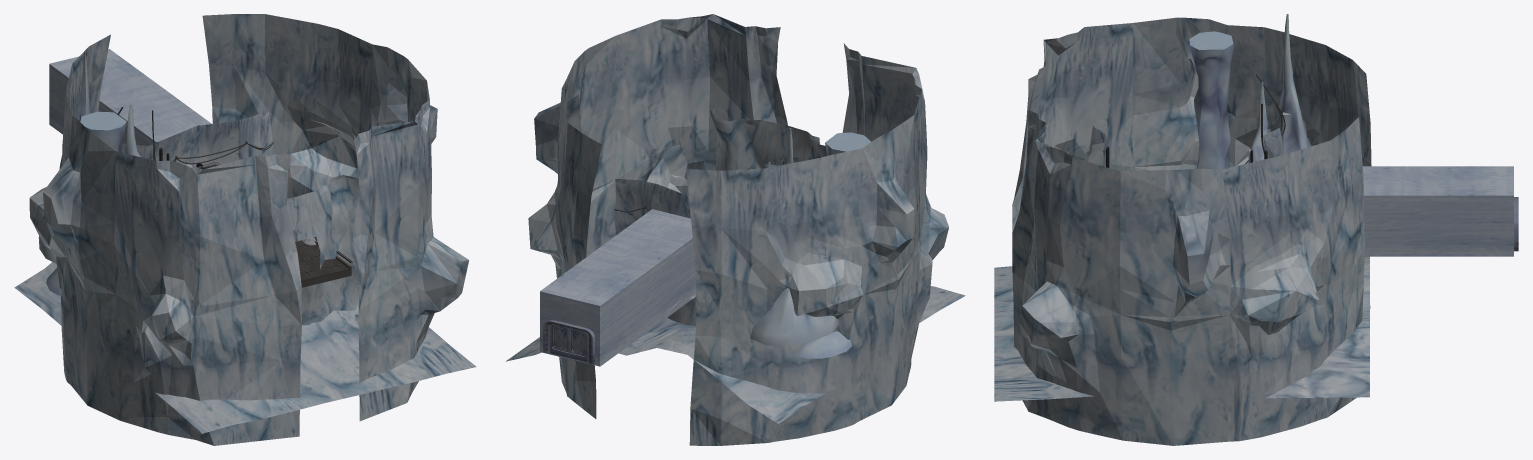
File: env_hoth_icebridge_pre.glb
The picture shows the model from 3 angles, left to right: view 1: azimuth 30°, elevation 25°; view 2: azimuth 150°, elevation 25°; view 3: azimuth 270°, elevation 25°; orthographic projection.
Parts seen in each view (by area): view 1: icebridge_outerwall_02_mesh, ground_hill_mesh, icebridge_wall_01_mesh, icebridge_transhall_01_mesh, hoth_ice_pillar_04_mesh, icebridge_mainwalkground_mesh, hoth_ice_pillar_02_mesh, icebridge_mainwalkrails_mesh; view 2: icebridge_outerwall_02_mesh, icebridge_transhall_01_mesh, icebridge_wall_01_mesh, ground_hill_mesh, hoth_ice_pillar_02_mesh, hoth_ice_pillar_04_mesh, blast_door_mesh, blast_door_frame_mesh; view 3: icebridge_outerwall_02_mesh, icebridge_transhall_01_mesh, ground_hill_mesh, hoth_ice_pillar_04_mesh, hoth_ice_pillar_02_mesh (×2), icebridge_wall_01_mesh.
Boxes of the visible parts, x1,y1,x2,y2 form: icebridge_outerwall_02_mesh: (29,14,468,445); ground_hill_mesh: (14,262,476,433); icebridge_wall_01_mesh: (121,108,359,325); icebridge_transhall_01_mesh: (49,49,211,152); hoth_ice_pillar_04_mesh: (46,111,126,306); icebridge_mainwalkground_mesh: (295,240,349,281); hoth_ice_pillar_02_mesh: (38,51,89,263); icebridge_mainwalkrails_mesh: (301,237,352,287); icebridge_outerwall_02_mesh: (528,14,948,445); icebridge_transhall_01_mesh: (540,209,696,366); icebridge_wall_01_mesh: (614,109,826,326); ground_hill_mesh: (505,286,965,423); hoth_ice_pillar_02_mesh: (750,128,839,346); hoth_ice_pillar_04_mesh: (796,132,870,358); blast_door_mesh: (550,324,587,363); blast_door_frame_mesh: (543,319,594,364); icebridge_outerwall_02_mesh: (1012,17,1371,445); icebridge_transhall_01_mesh: (1362,166,1513,256); ground_hill_mesh: (994,256,1369,401); hoth_ice_pillar_04_mesh: (1189,31,1234,169); hoth_ice_pillar_02_mesh (×2): (1248,14,1312,162); icebridge_wall_01_mesh: (1084,124,1284,166).
Size of the model in its own units: 41.11 by 31.26 by 48.88.
Materials: 15 (15 with a texture image).
